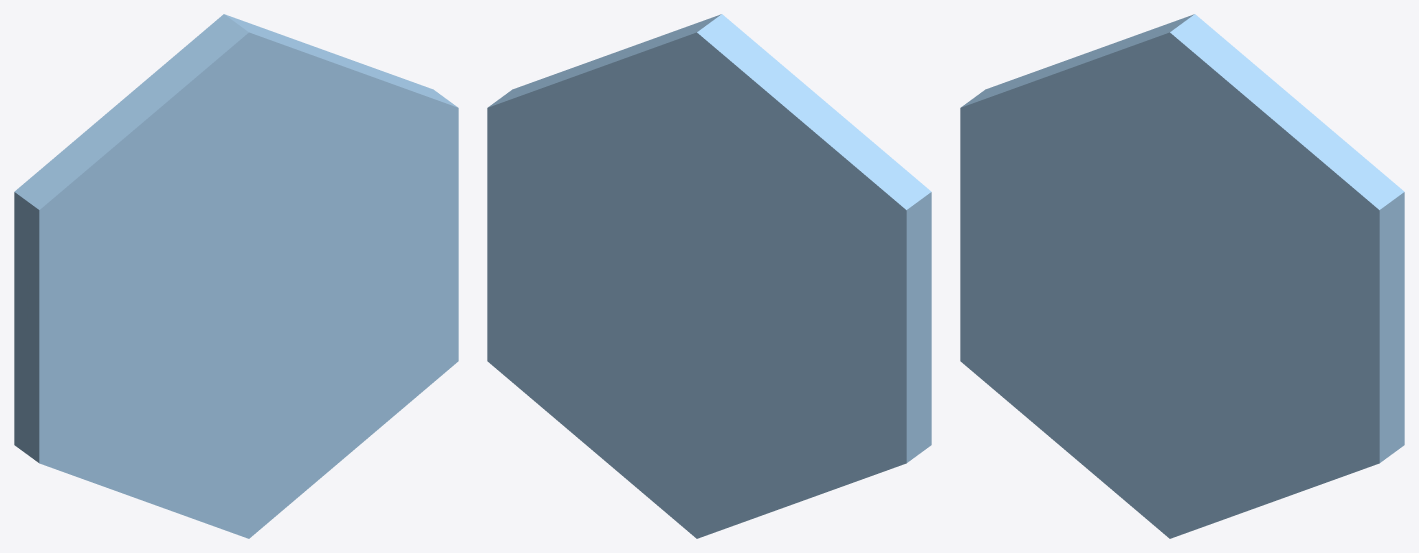
File: badge_sally.glb
The picture shows the model from 3 angles, left to right: view 1: azimuth 30°, elevation 25°; view 2: azimuth 150°, elevation 25°; view 3: azimuth 330°, elevation 25°; orthographic projection.
Parts seen in each view (by area): view 1: badge; view 2: badge; view 3: badge.
Boxes of the visible parts, <box> form: badge: <box>14,14,458,538</box>; badge: <box>487,14,931,538</box>; badge: <box>960,14,1404,538</box>.
Size of the model in its own units: 1.73 by 2 by 0.18.
